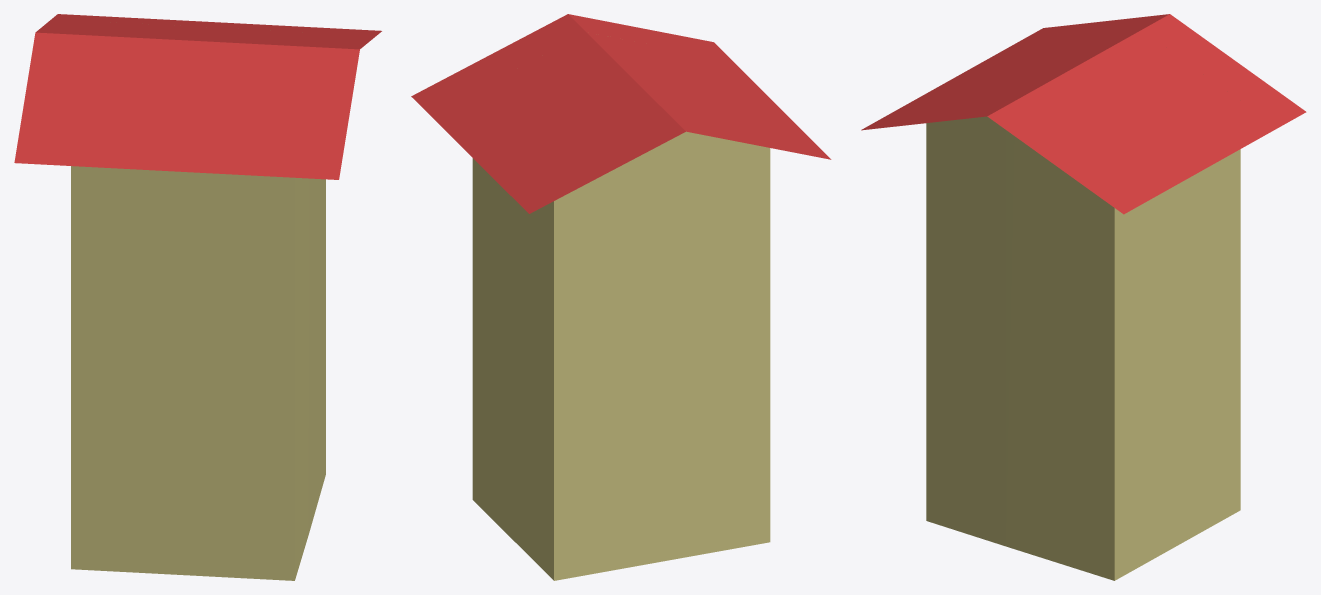
The picture shows the model from 3 angles, left to right: view 1: azimuth 30°, elevation 25°; view 2: azimuth 150°, elevation 25°; view 3: azimuth 270°, elevation 25°; orthographic projection. The views are drawn at different scales.
Bounding box in the file's own units: 4.69 × 4.74 × 5.26.
